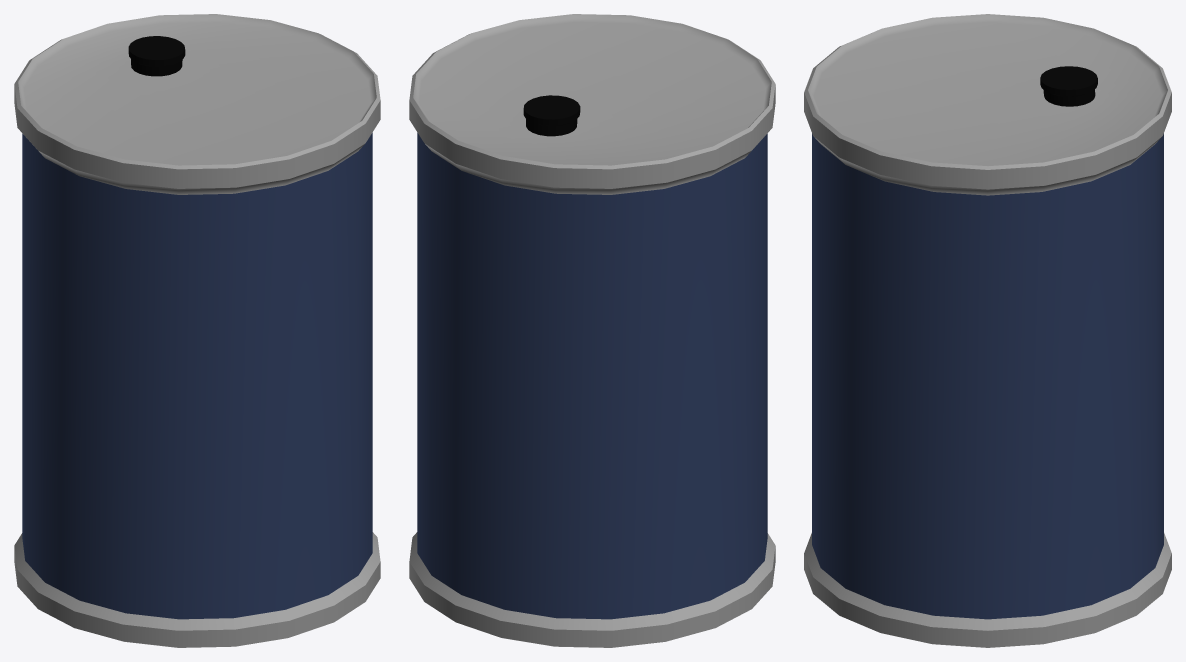
File: Barrel.fbx
3 renders of one model, left to right at view 1: azimuth 30°, elevation 25°; view 2: azimuth 150°, elevation 25°; view 3: azimuth 270°, elevation 25°, orthographic.
Parts seen in each view (by area): view 1: pCylinder1; view 2: pCylinder1; view 3: pCylinder1.
Part boxes in pixels (left/top/right/bottom): pCylinder1: left=14, top=14, right=380, bottom=647; pCylinder1: left=409, top=14, right=775, bottom=647; pCylinder1: left=804, top=14, right=1171, bottom=647.
Bounding box in the file's own units: 20.9 × 30.97 × 20.9.
